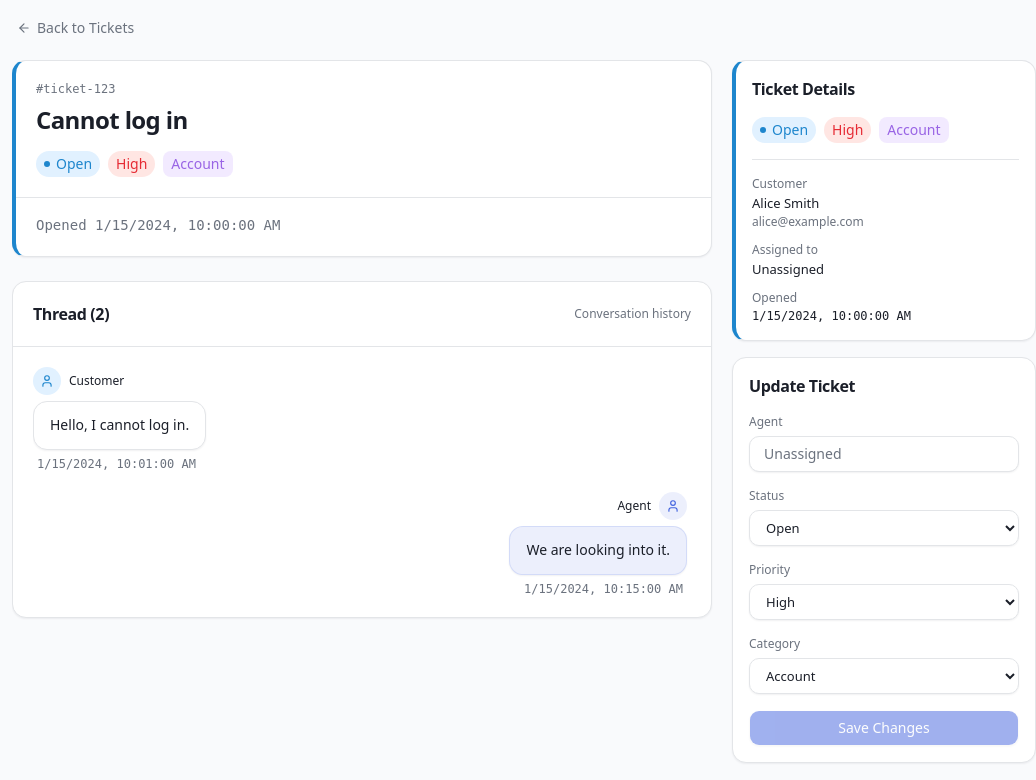
Test: TicketDetail page › Save Changes becomes enabled after changing the status
The image size is (1036, 780).
Check: the heading "Cannot log in" is shown, box [36,103,188,136]
Select "In Progress" in the dropdown labelled "Status" at (884, 528), box [749,510,1019,546]
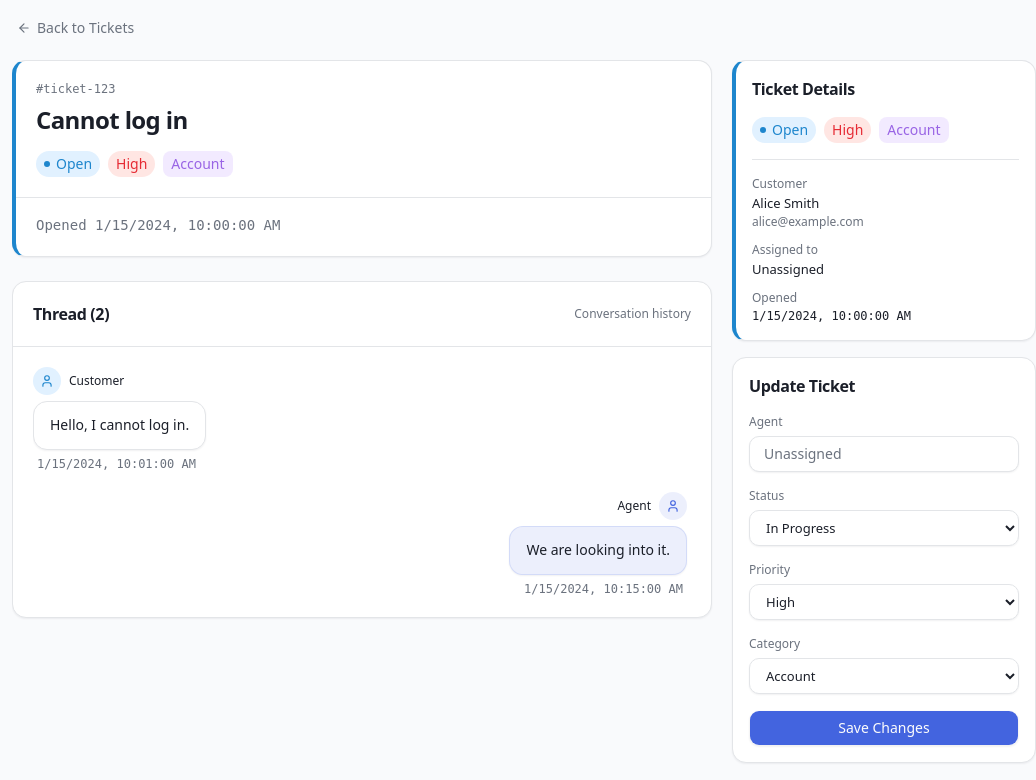
Check: the button "Save Changes" is enabled, box [749,710,1019,746]
